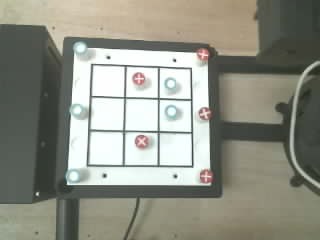blue circle: (69, 104, 85, 119), (65, 169, 80, 182), (73, 42, 87, 55), (165, 105, 177, 118), (164, 77, 176, 89)
board: (66, 42, 212, 185)
cells: (125, 132, 157, 165), (89, 132, 122, 164), (91, 98, 123, 130), (160, 133, 191, 165), (125, 99, 157, 130), (159, 100, 191, 131), (92, 66, 124, 96), (126, 67, 157, 97), (160, 68, 190, 98)
grid: (87, 64, 193, 167)
red cross: (135, 135, 148, 148), (200, 169, 212, 183), (196, 48, 209, 60), (132, 72, 145, 84), (198, 107, 211, 119)
